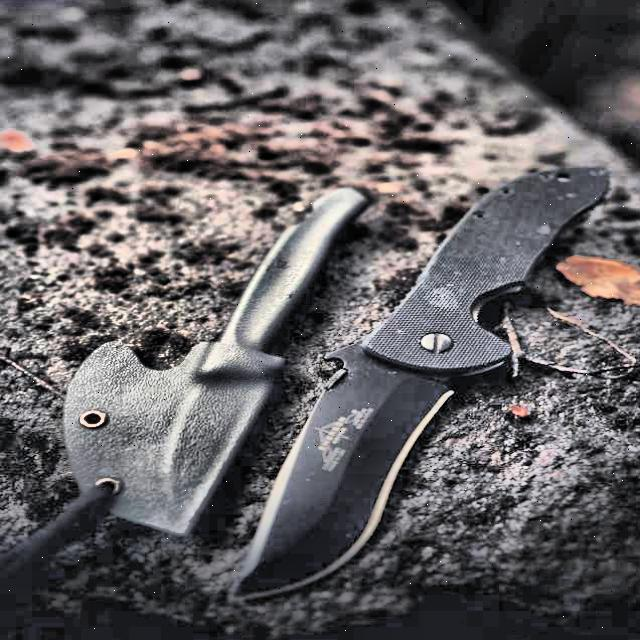knife: (217, 158, 615, 606)
